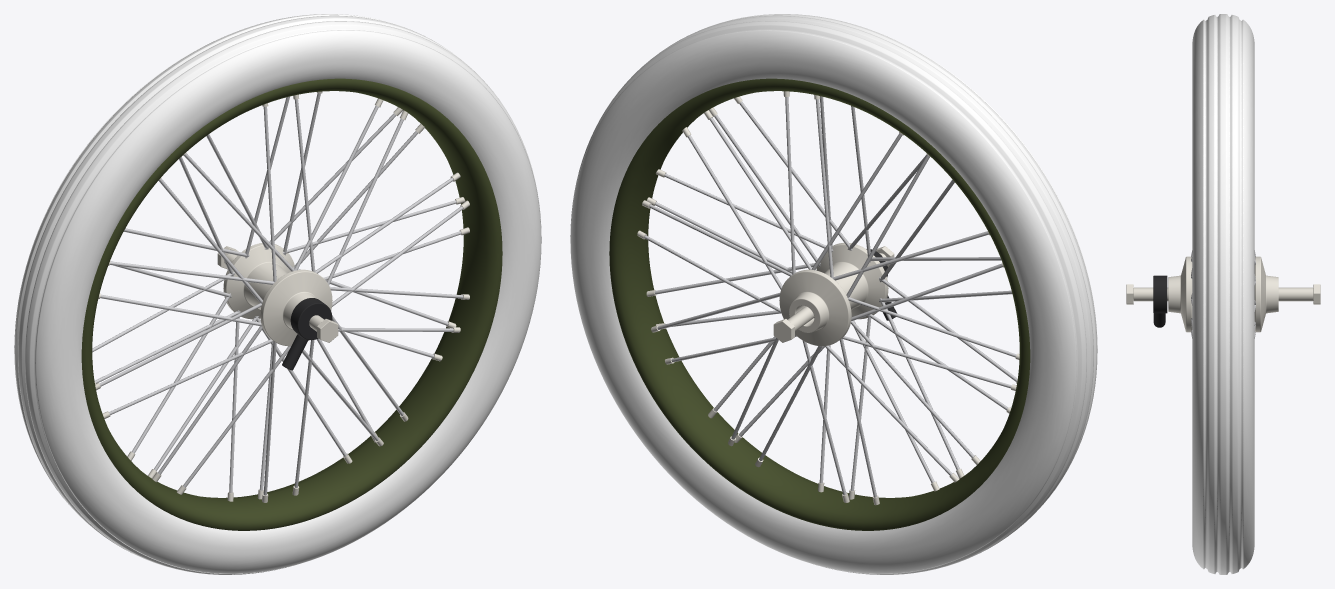
The model's file is bike_vintage_vtwin__front_wheel.glb.
3 views of the same model, side by side, from view 1: azimuth 30°, elevation 25°; view 2: azimuth 150°, elevation 25°; view 3: azimuth 270°, elevation 25° (orthographic). The views are drawn at different scales.
Parts seen in each view (by area): view 1: wheels__front_wheel__tyre, wheels__front_wheel__rim, wheels__front_wheel__spokes, wheels__front_wheel__hub, wheels__front_wheel__speedometer_drive, wheels__front_wheel__nipples, wheels__front_wheel__axle; view 2: wheels__front_wheel__tyre, wheels__front_wheel__rim, wheels__front_wheel__spokes, wheels__front_wheel__hub, wheels__front_wheel__nipples, wheels__front_wheel__axle; view 3: wheels__front_wheel__tyre, wheels__front_wheel__hub, wheels__front_wheel__axle, wheels__front_wheel__speedometer_drive.
Part boxes in pixels (bbox=[...]): wheels__front_wheel__tyre: bbox=[14, 14, 541, 574]; wheels__front_wheel__rim: bbox=[81, 78, 502, 530]; wheels__front_wheel__spokes: bbox=[92, 93, 463, 495]; wheels__front_wheel__hub: bbox=[223, 243, 332, 346]; wheels__front_wheel__speedometer_drive: bbox=[282, 298, 332, 370]; wheels__front_wheel__nipples: bbox=[94, 91, 469, 502]; wheels__front_wheel__axle: bbox=[217, 246, 338, 342]; wheels__front_wheel__tyre: bbox=[570, 14, 1097, 574]; wheels__front_wheel__rim: bbox=[609, 78, 1030, 530]; wheels__front_wheel__spokes: bbox=[644, 96, 1017, 497]; wheels__front_wheel__hub: bbox=[779, 242, 888, 346]; wheels__front_wheel__nipples: bbox=[637, 91, 1019, 505]; wheels__front_wheel__axle: bbox=[773, 246, 894, 342]; wheels__front_wheel__tyre: bbox=[1192, 14, 1254, 574]; wheels__front_wheel__hub: bbox=[1168, 256, 1278, 332]; wheels__front_wheel__axle: bbox=[1126, 284, 1320, 304]; wheels__front_wheel__speedometer_drive: bbox=[1153, 275, 1167, 327].
Size of the model in its own units: 71.12 by 71.12 by 24.6.
